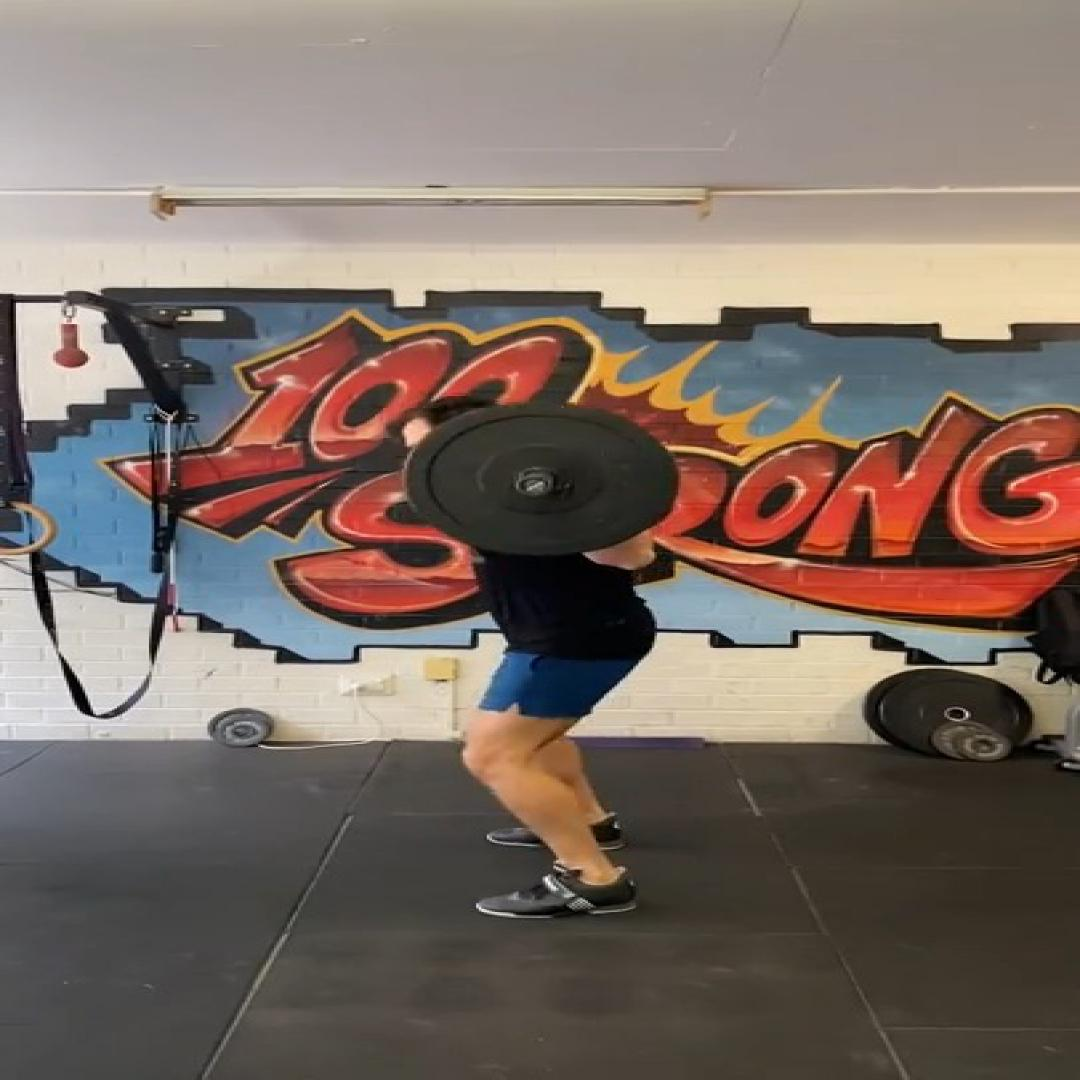Bar: (513, 474, 556, 498)
Barbell: (402, 406, 678, 557)
